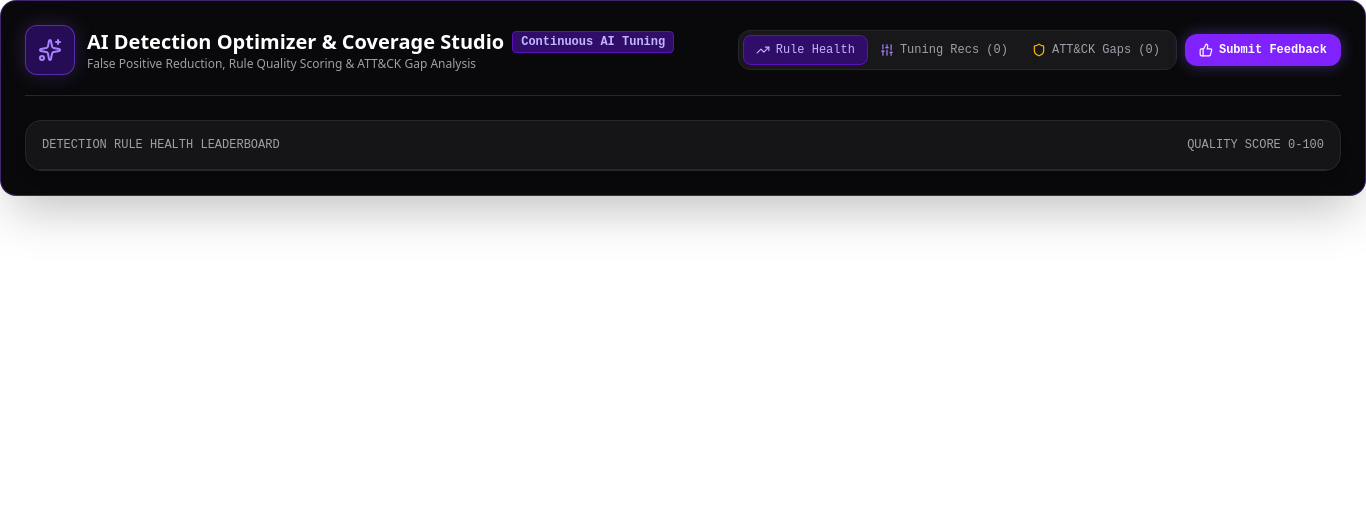
it: AIDetectionOptimizer Component › switches tabs to Tuning Recommendations
Expected: the heading "AI Detection Optimizer & Coverage Studio" is shown, [87,28,504,55]
Click the button "Tuning Recs (0)" at (944, 50), box [868,36,1020,64]
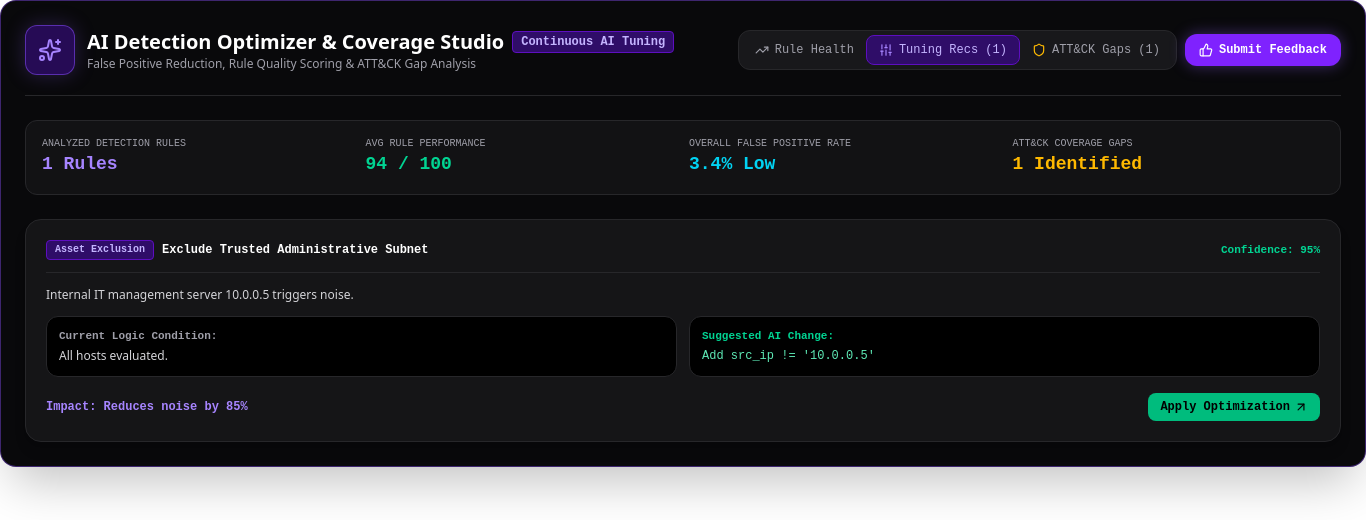
Now the text "Exclude Trusted Administrative Subnet" is shown, box [162,242,428,258]
